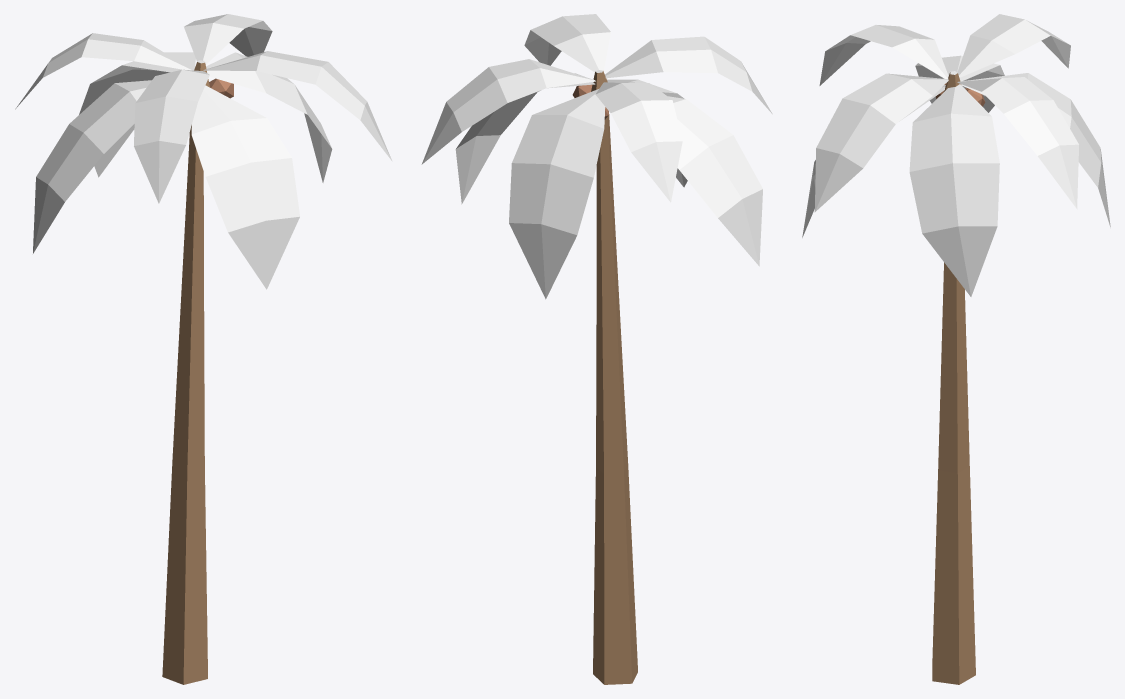
Rendered from Palm_Tree_Coconut_OneSided_m_Snow_01.fbx.
The picture shows the model from 3 angles, left to right: view 1: azimuth 30°, elevation 25°; view 2: azimuth 150°, elevation 25°; view 3: azimuth 270°, elevation 25°; orthographic projection.
Parts seen in each view (by area): view 1: Palm_Tree_Coconut_OneSided_m_Snow_01; view 2: Palm_Tree_Coconut_OneSided_m_Snow_01; view 3: Palm_Tree_Coconut_OneSided_m_Snow_01.
Part boxes in pixels (x1,y1,x2,y2): Palm_Tree_Coconut_OneSided_m_Snow_01: [15, 14, 392, 684]; Palm_Tree_Coconut_OneSided_m_Snow_01: [421, 14, 772, 684]; Palm_Tree_Coconut_OneSided_m_Snow_01: [802, 14, 1110, 684].
Size of the model in its own units: 298 by 601 by 269.
